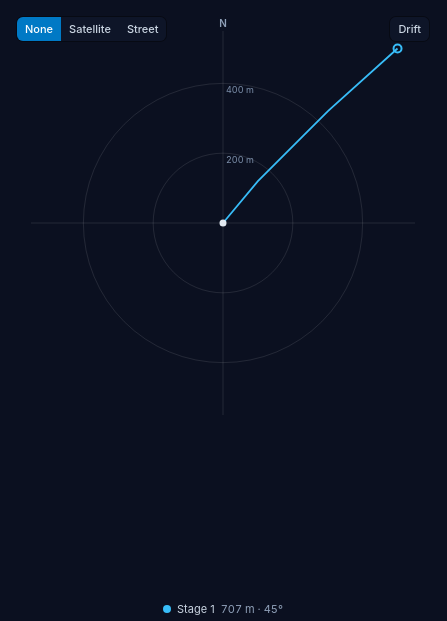
GroundTrack drift region › says on the panel that the region is experimental
Click the button "Drift". click: (410, 29)
box: [390,17,429,41]
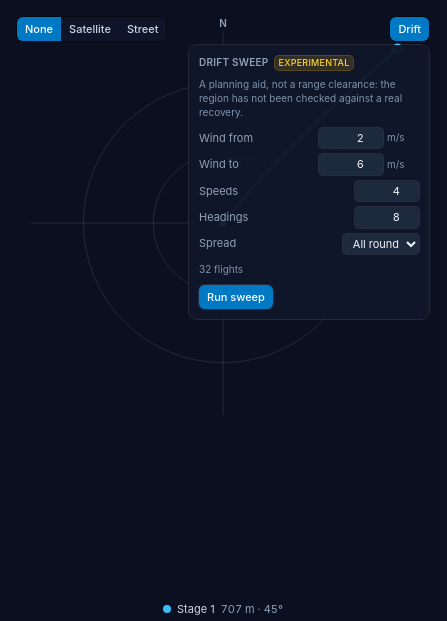
Expected: the text "Experimental" is shown, [274,56,353,70]
Expected: the text "not a range clearance" is shown, [199,78,402,118]
